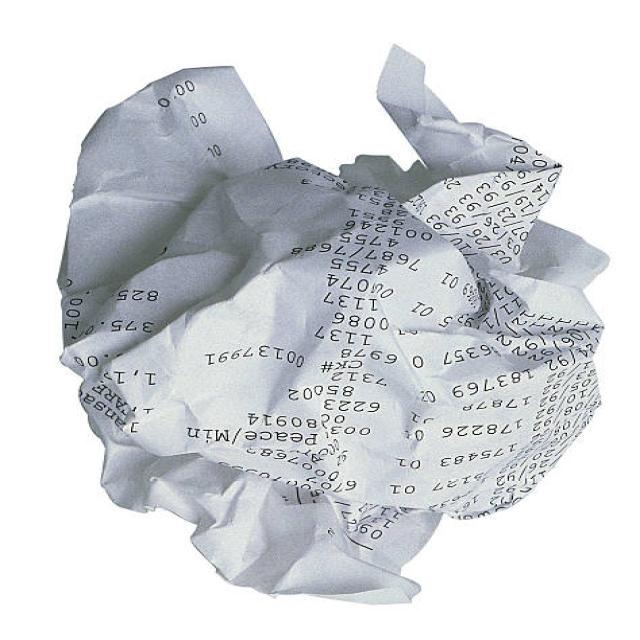electronic: (55, 43, 610, 604)
